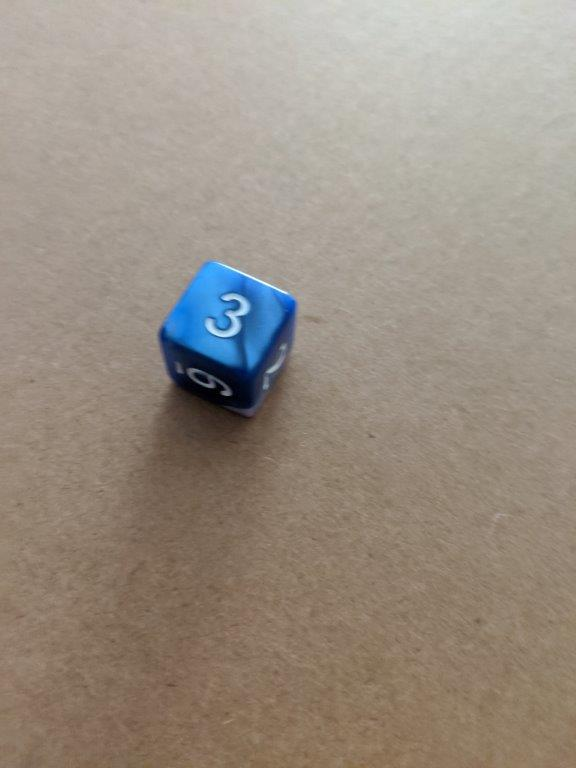d6-3: (156, 258, 299, 419)
